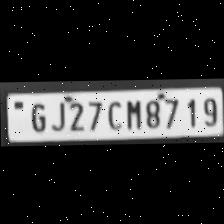1: (179, 95, 199, 128)
2: (65, 99, 85, 132)
7: (160, 96, 180, 128), (82, 99, 102, 130)
8: (142, 97, 160, 128)
9: (198, 94, 220, 127)
C: (102, 98, 122, 130)
G: (26, 100, 46, 132)
J: (48, 98, 66, 132)
M: (122, 98, 142, 130)
